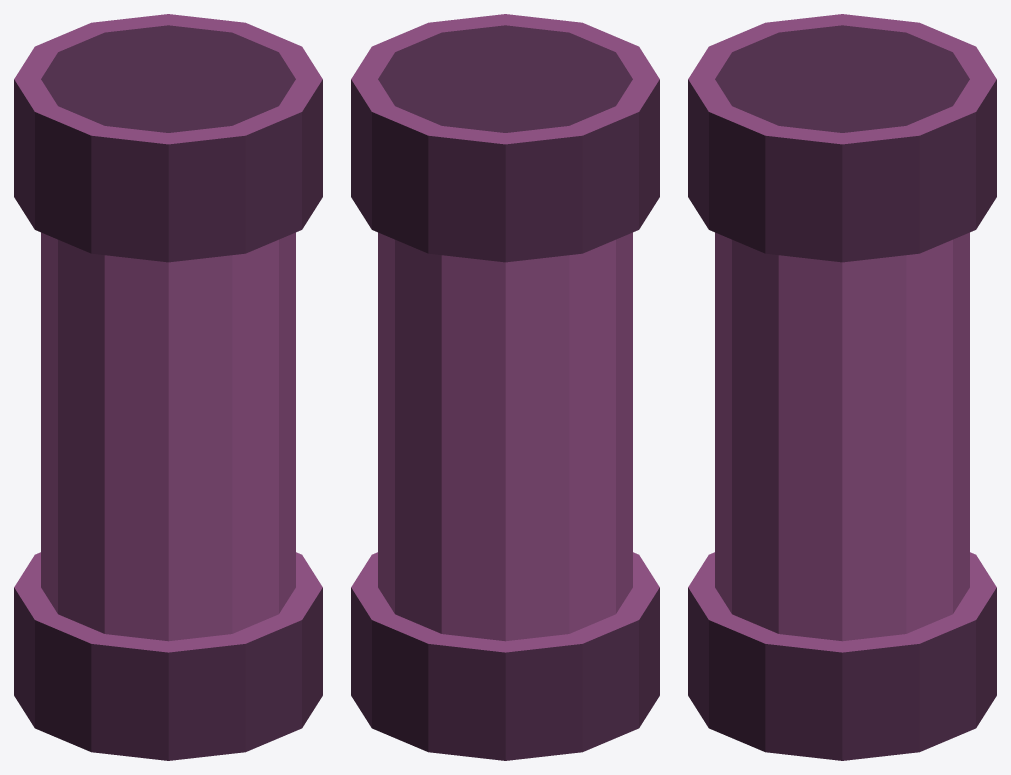
Rendered from Laumania_SmokeBomb_Sample01.fbx.
3 views of the same model, side by side, from view 1: azimuth 30°, elevation 25°; view 2: azimuth 150°, elevation 25°; view 3: azimuth 270°, elevation 25° (orthographic).
Visible parts, largest first — view 1: Laumania_SmokeBomb_Sample01; view 2: Laumania_SmokeBomb_Sample01; view 3: Laumania_SmokeBomb_Sample01.
Part boxes in pixels (left/top/right/bottom): Laumania_SmokeBomb_Sample01: left=14, top=14, right=322, bottom=760; Laumania_SmokeBomb_Sample01: left=351, top=14, right=659, bottom=760; Laumania_SmokeBomb_Sample01: left=688, top=14, right=996, bottom=760.
Bounding box in the file's own units: 0.0726 × 0.16 × 0.0726.
